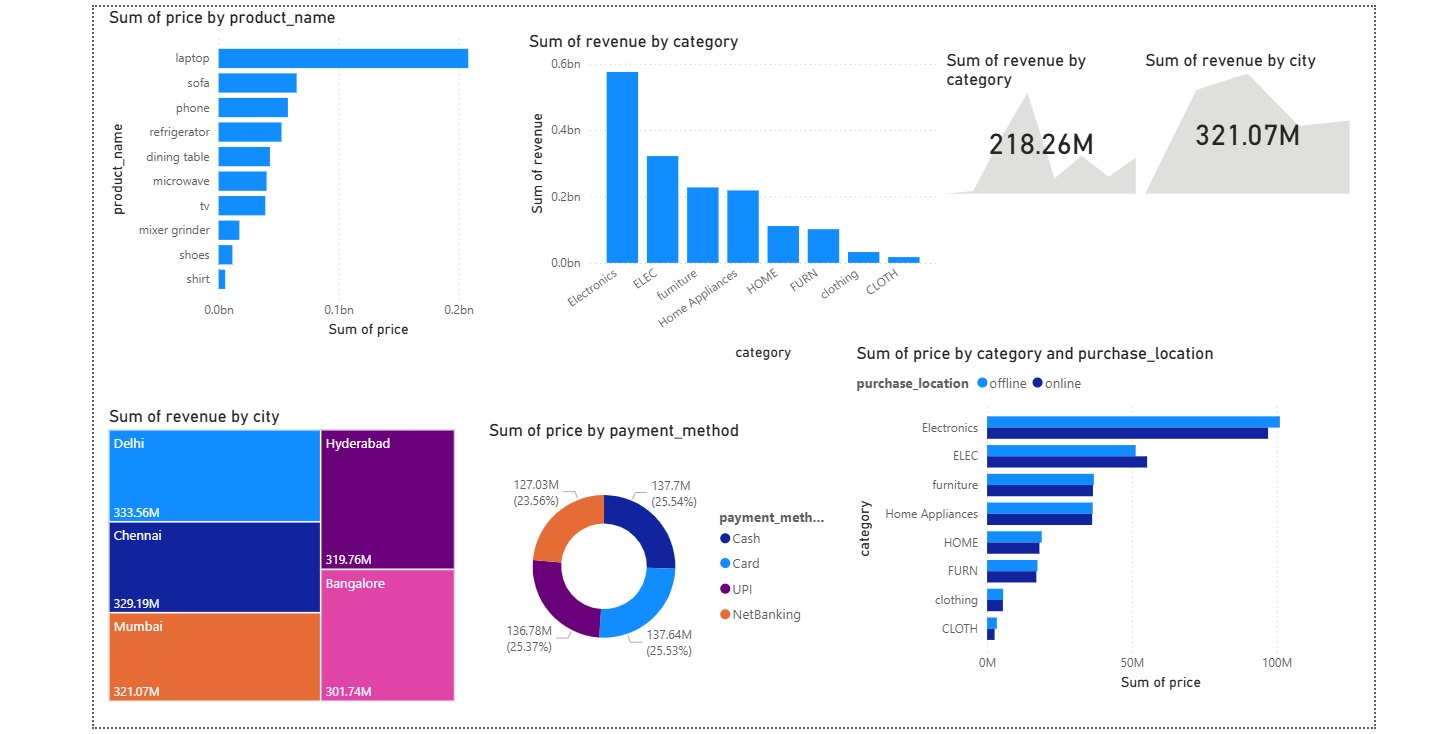

Layout of this report page (visuals, bound fields, positions):
{"tool":"powerbi","page":{"name":"Page 1","canvas":[1280,720],"ordinal":0},"visuals":[{"type":"clusteredBarChart","fields":{"Category":["cleaned_retail_data.product_name"],"Y":["Sum(cleaned_retail_data.price)"]},"box":[10.3,0,434.8,335.1],"z":0},{"type":"kpi","fields":{"TrendLine":["cleaned_retail_data.category"],"Indicator":["Sum(cleaned_retail_data.revenue)"]},"box":[847.3,43,199.4,149.5],"z":1000},{"type":"kpi","fields":{"Indicator":["Sum(cleaned_retail_data.revenue)"],"TrendLine":["cleaned_retail_data.city"]},"box":[1046.6,43,214.8,149.5],"z":2000},{"type":"treemap","fields":{"Group":["cleaned_retail_data.city"],"Values":["Sum(cleaned_retail_data.revenue)"]},"box":[10.3,398.7,355.7,300.8],"z":3000},{"type":"columnChart","fields":{"Category":["cleaned_retail_data.category"],"Y":["Sum(cleaned_retail_data.revenue)"]},"box":[429.6,24.1,417.6,335.1],"z":4000},{"type":"donutChart","fields":{"Category":["cleaned_retail_data.payment_method"],"Y":["Sum(cleaned_retail_data.price)"]},"box":[390.1,412.5,352.3,275],"z":4001},{"type":"clusteredBarChart","fields":{"Category":["cleaned_retail_data.category"],"Series":["cleaned_retail_data.purchase_location"],"Y":["Sum(cleaned_retail_data.price)"]},"box":[757.1,335.7,504.3,351.4],"z":4002}]}

Visuals, with their boxes on the page's 1280x720 design canvas (x1, y1, x2, y2). These are canvas units, not pixel positions in the 1444x734 screenshot, which may show the page scaled, cropped or inside an application window:
clusteredBarChart - cleaned_retail_data.product_name x Sum(cleaned_retail_data.price): {"left": 10, "top": 0, "right": 445, "bottom": 335}
kpi - cleaned_retail_data.category x Sum(cleaned_retail_data.revenue): {"left": 847, "top": 43, "right": 1047, "bottom": 192}
kpi - Sum(cleaned_retail_data.revenue) x cleaned_retail_data.city: {"left": 1047, "top": 43, "right": 1261, "bottom": 192}
treemap - cleaned_retail_data.city x Sum(cleaned_retail_data.revenue): {"left": 10, "top": 399, "right": 366, "bottom": 700}
columnChart - cleaned_retail_data.category x Sum(cleaned_retail_data.revenue): {"left": 430, "top": 24, "right": 847, "bottom": 359}
donutChart - cleaned_retail_data.payment_method x Sum(cleaned_retail_data.price): {"left": 390, "top": 412, "right": 742, "bottom": 688}
clusteredBarChart - cleaned_retail_data.category x cleaned_retail_data.purchase_location: {"left": 757, "top": 336, "right": 1261, "bottom": 687}
